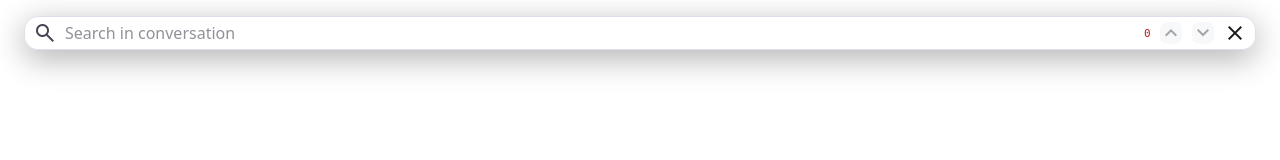
Test: ChatSearchBar — navigation › jumps to the first match on query and walks with Enter (virtualized)
Type "panda" into the field labelled "Search in conversation" at [600, 33], box x1=65 y1=21 x2=1136 y2=45
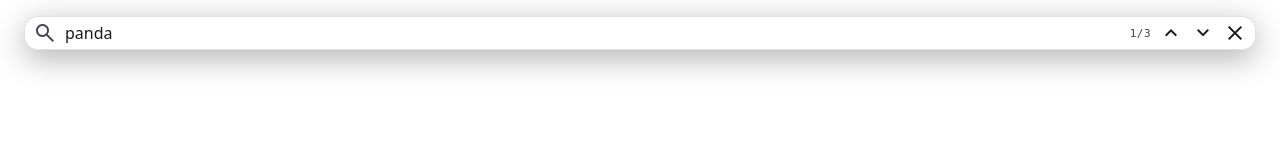
Expected: the text with test id "chat-search-count" reads "1/3", x1=1130 y1=26 x2=1151 y2=40
Press Enter in the field named "Search in conversation", box x1=65 y1=21 x2=1122 y2=45
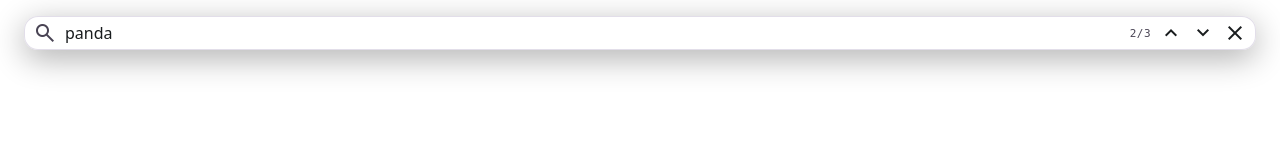
Expected: the text with test id "chat-search-count" reads "2/3", x1=1130 y1=26 x2=1151 y2=40
wraps forward at the end
Press Enter in the field named "Search in conversation", box x1=65 y1=21 x2=1122 y2=45
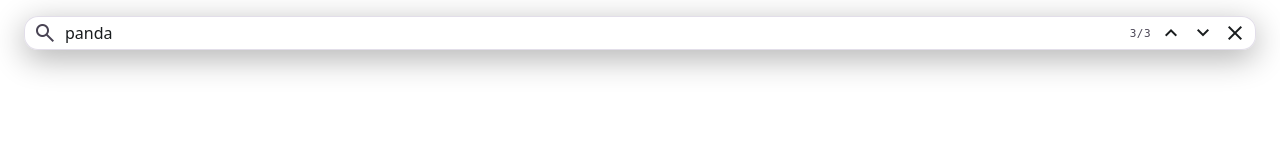
Press Enter in the field named "Search in conversation", box x1=65 y1=21 x2=1122 y2=45
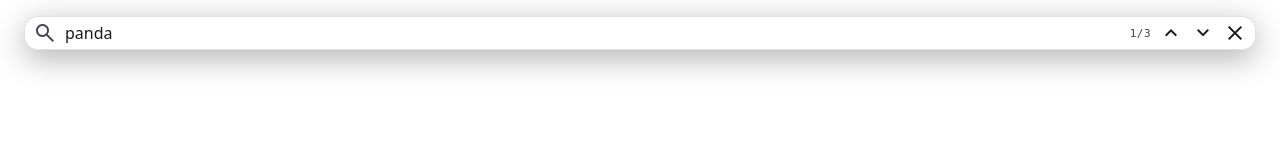
Expected: the text with test id "chat-search-count" reads "1/3", x1=1130 y1=26 x2=1151 y2=40
Shift+Enter walks backwards (wraps to the last match)
Press Enter in the field named "Search in conversation", box x1=65 y1=21 x2=1122 y2=45
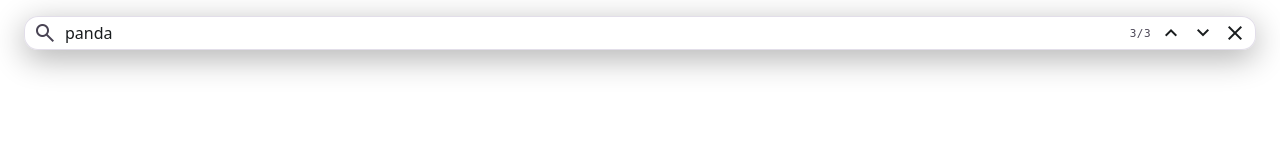
Expected: the text with test id "chat-search-count" reads "3/3", x1=1130 y1=26 x2=1151 y2=40
